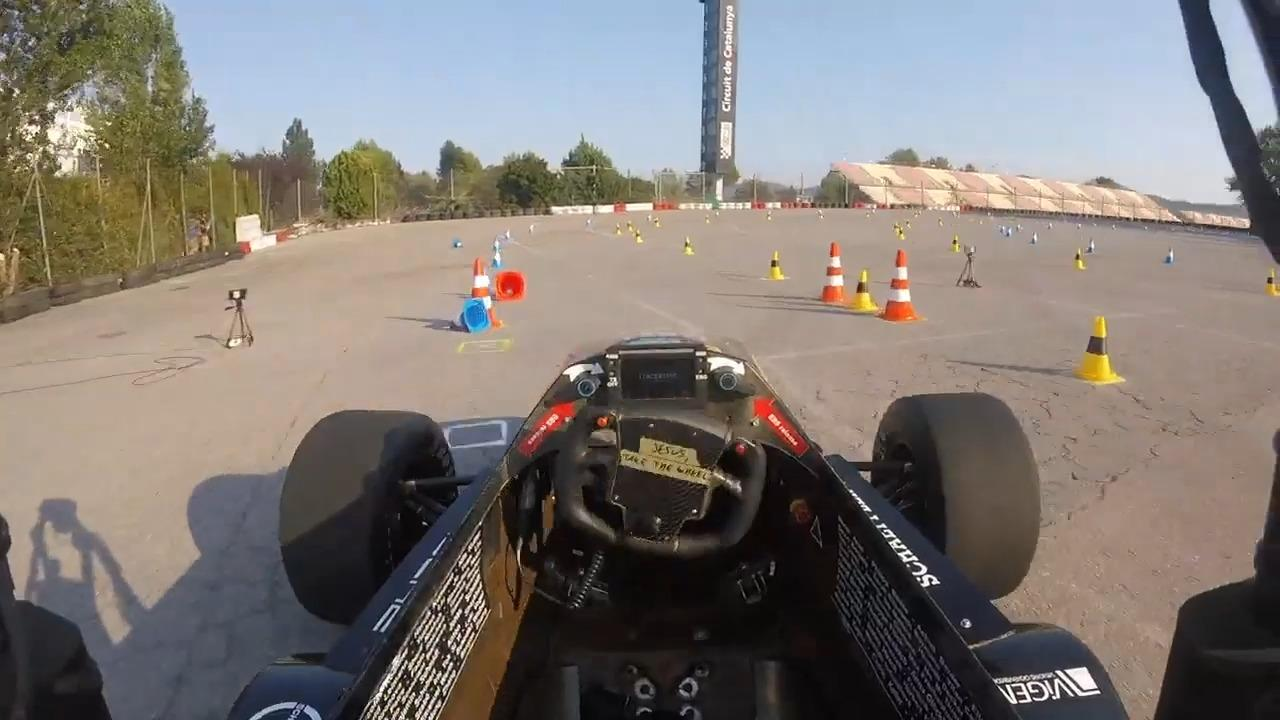large_orange_cone: (456, 249, 504, 329), (886, 237, 926, 315), (812, 238, 848, 304)
yellow_cone: (1076, 313, 1129, 392), (761, 247, 796, 296), (853, 263, 883, 311)
